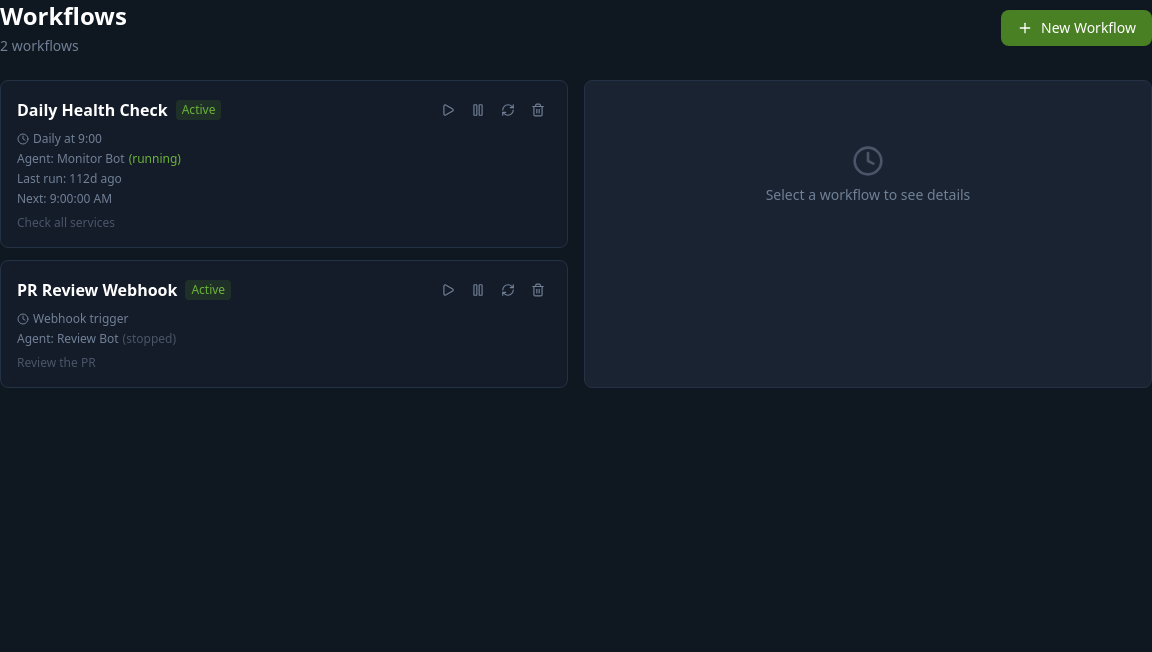
WorkflowsClient › shows the webhook URL exactly once, right after creating a webhook workflow, then lets it be dismissed
The image size is (1152, 652).
expect the heading "Daily Health Check" is shown: met, box [17,98,168,122]
Click the button "New Workflow".
click(1076, 28)  # box [1001,10,1151,46]
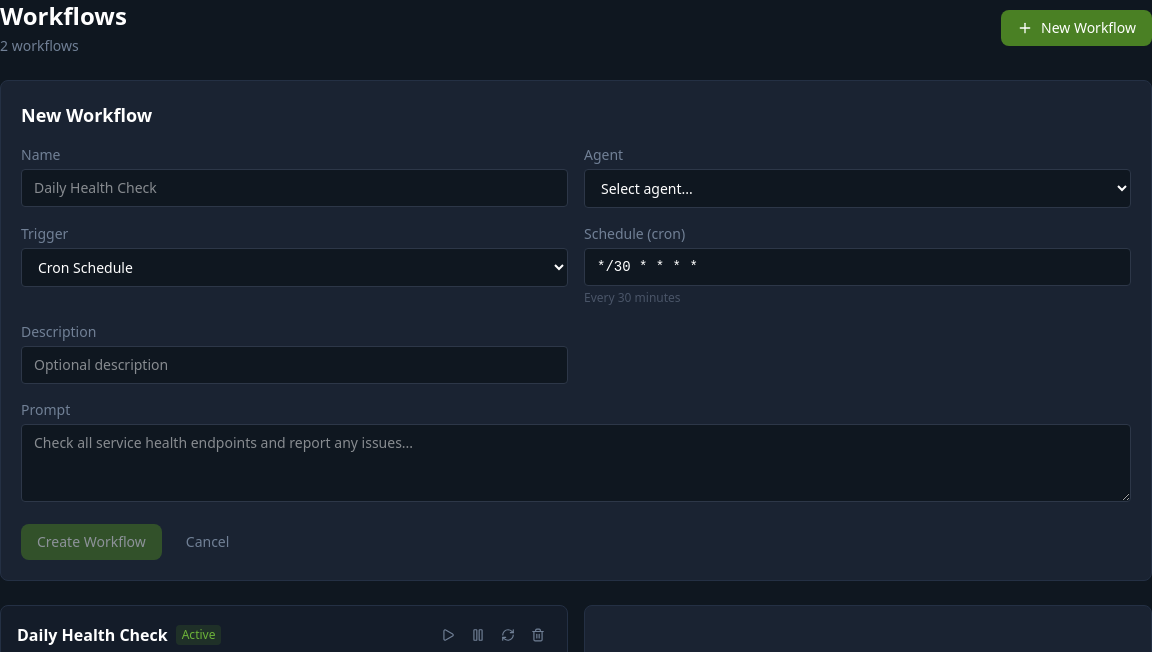
Type "New Hook" into the field with placeholder "Daily Health Check".
click(294, 188); type("New Hook")  # box [21,169,568,207]
Select "Monitor Bot (running)" in the 1st dropdown showing "Select agent..." at (858,188), box [584,169,1131,208]
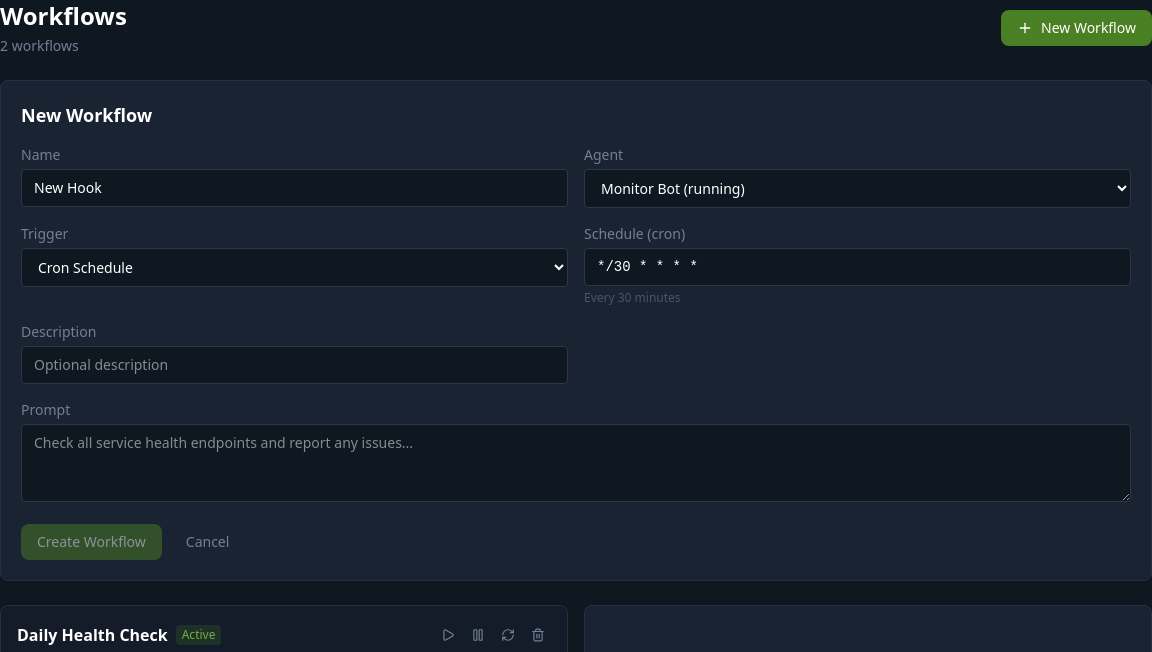
Select "Webhook URL" in the 2nd dropdown showing "Cron Schedule" at (294,268), box [21,248,568,287]
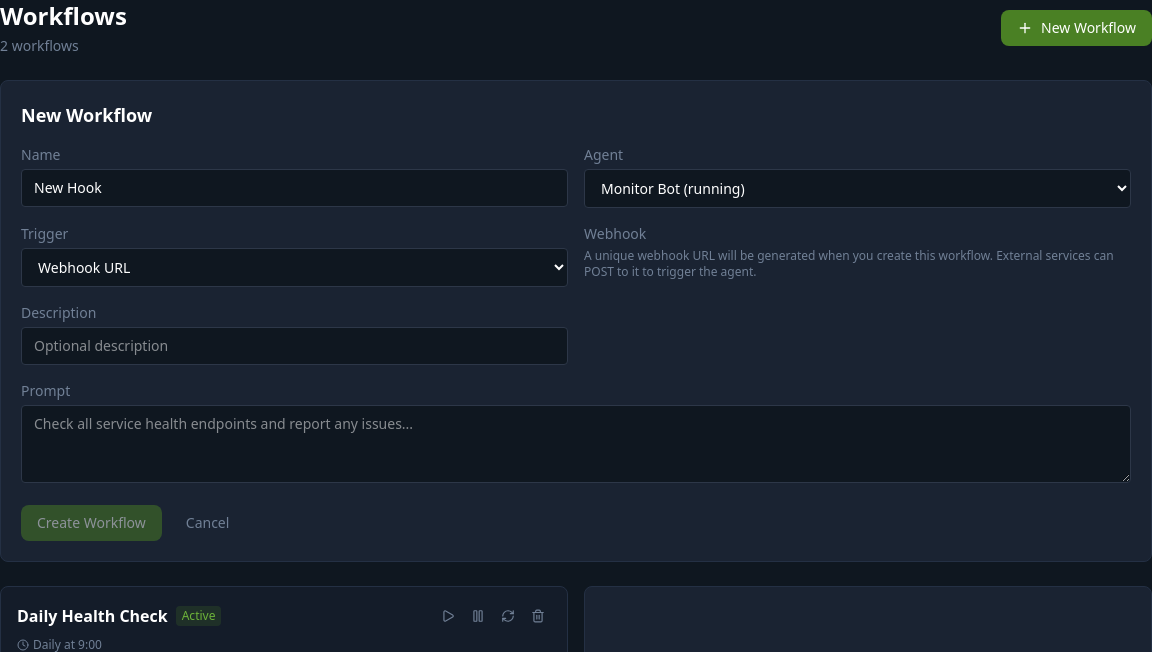
Type "do the thing" into the text box with placeholder "Check all service health endpoints and report any issues...".
click(576, 444); type("do the thing")  # box [21,405,1131,483]
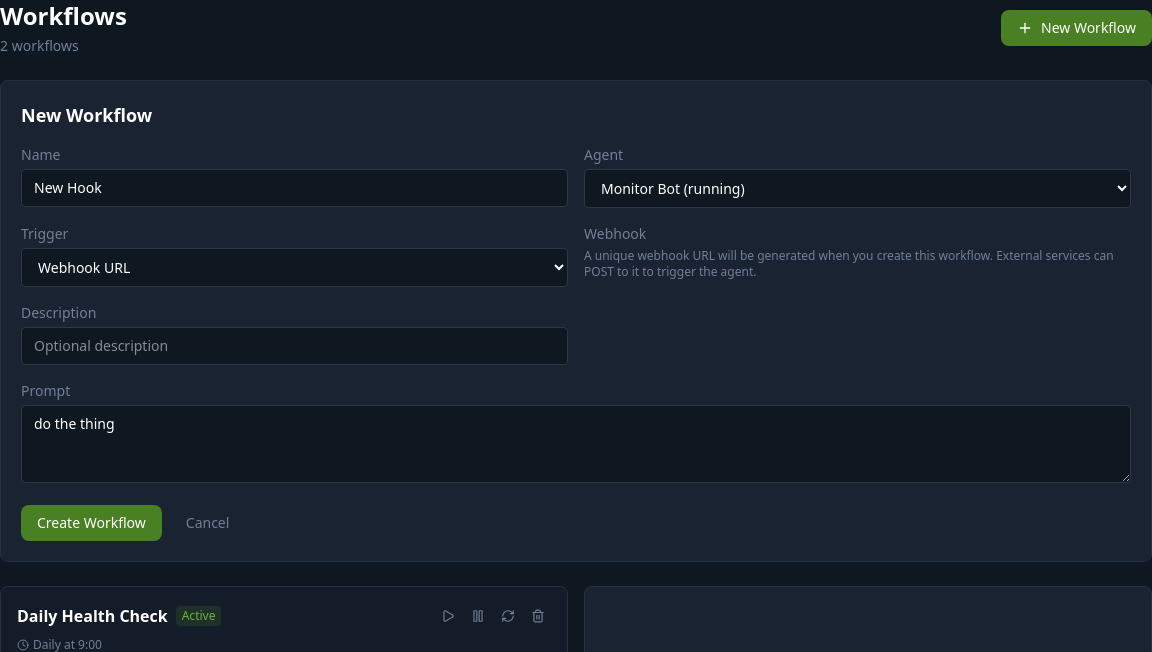
Click the button "Create Workflow".
click(91, 523)  # box [21,505,162,541]
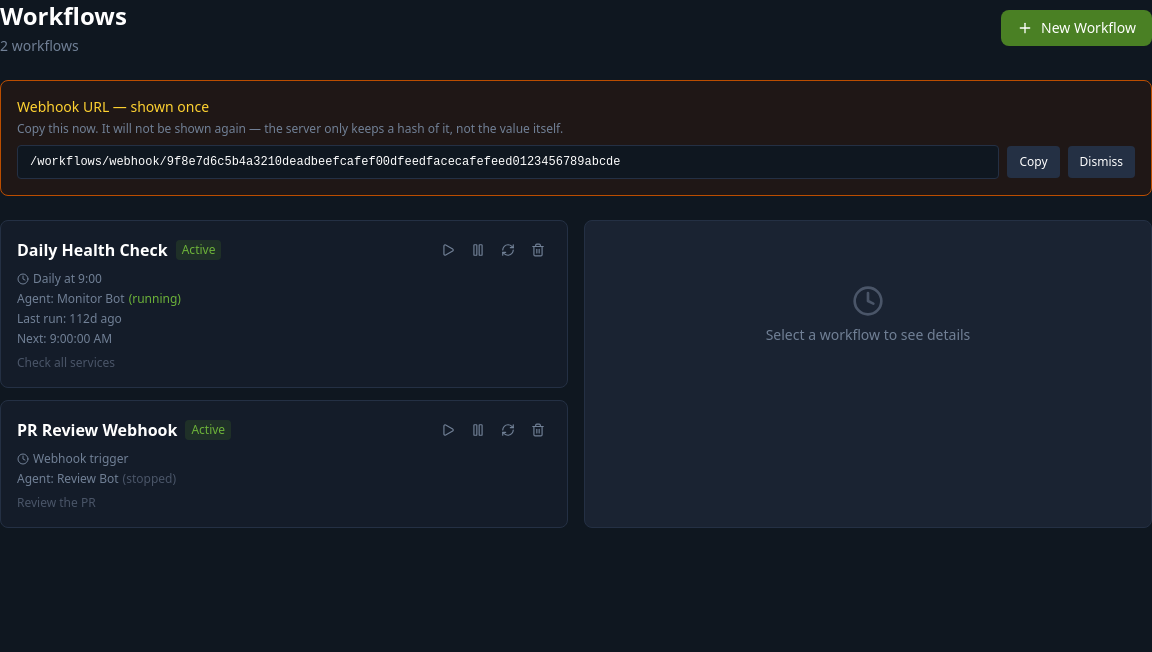
expect the text "Webhook URL — shown once" is shown: met, box [17,97,209,116]
expect the text "/workflows/webhook/9f8e7d6c5b4a3210deadbeefcafef00dfeedfacecafefeed0123456789abcde" is shown: met, box [30,155,620,169]
Click the button "Dismiss".
click(1101, 162)  # box [1068,146,1135,178]
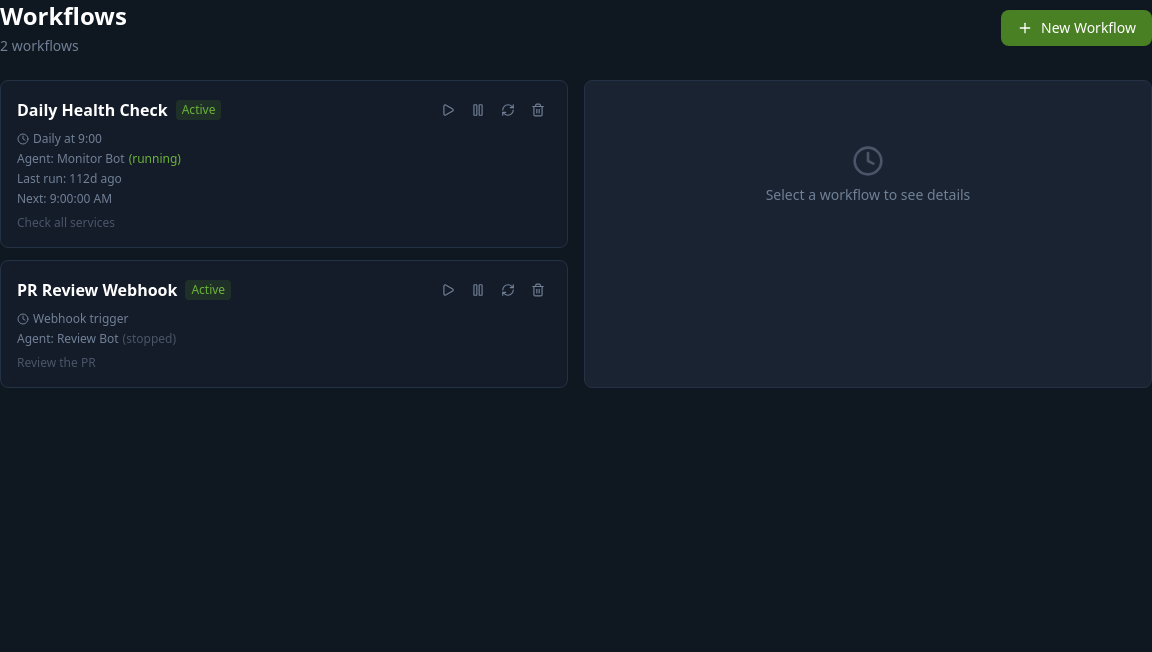
expect the text "Webhook URL — shown once" is gone: met
